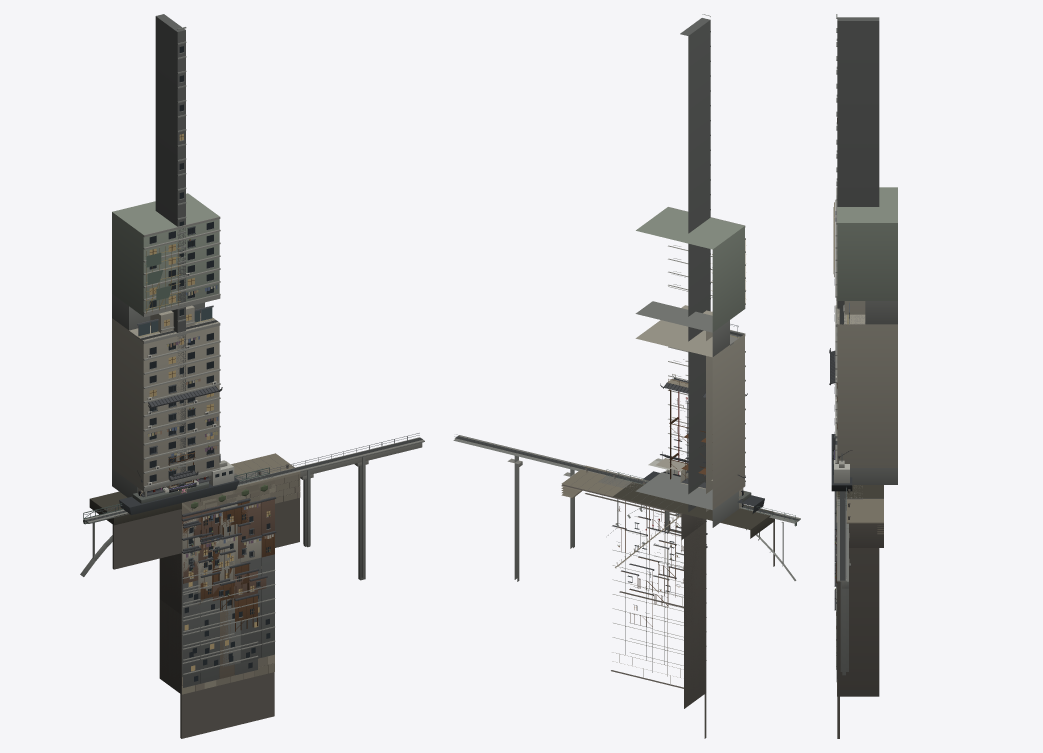
File: kit_fog_stair.glb
3 views of the same model, side by side, from view 1: azimuth 30°, elevation 25°; view 2: azimuth 150°, elevation 25°; view 3: azimuth 270°, elevation 25° (orthographic). The views are drawn at different scales.
Parts seen in each view (by area): view 1: fs_tower, fs_hill, fs_stair_upper, fs_edge_wall, fs_riverbed, fs_terrace, fs_quay, fs_stair_lower, fs_viaduct, fs_barge, fs_viaduct_twin, fs_bridge; view 2: fs_tower, fs_edge_wall, fs_hill, fs_stair_upper, fs_riverbed, fs_quay, fs_viaduct, fs_ad_tower, fs_stair_lower, fs_terrace, fs_viaduct_twin, fs_pavilion (+1 smaller); view 3: fs_tower, fs_edge_wall, fs_hill, fs_quay, fs_viaduct, fs_barge, fs_viaduct_twin, fs_riverbed.
Boxes of the visible parts, box(x1,y1,x2,y2) form: fs_tower: box(112, 193, 220, 497); fs_hill: box(159, 468, 276, 738); fs_stair_upper: box(160, 503, 259, 738); fs_edge_wall: box(155, 14, 186, 486); fs_riverbed: box(89, 491, 181, 569); fs_terrace: box(159, 474, 250, 619); fs_quay: box(181, 453, 300, 547); fs_stair_lower: box(159, 502, 267, 652); fs_viaduct: box(238, 433, 424, 577); fs_barge: box(119, 455, 239, 514); fs_viaduct_twin: box(239, 437, 422, 580); fs_bridge: box(80, 469, 272, 576); fs_tower: box(635, 207, 745, 527); fs_edge_wall: box(680, 14, 710, 511); fs_hill: box(599, 472, 707, 738); fs_stair_upper: box(629, 521, 706, 708); fs_riverbed: box(613, 479, 774, 566); fs_quay: box(561, 465, 706, 566); fs_viaduct: box(453, 434, 667, 579); fs_ad_tower: box(681, 305, 712, 511); fs_stair_lower: box(615, 511, 706, 656); fs_terrace: box(626, 478, 707, 625); fs_viaduct_twin: box(455, 437, 669, 581); fs_pavilion: box(660, 374, 747, 479); fs_tower: box(833, 187, 897, 484); fs_edge_wall: box(836, 14, 879, 308); fs_hill: box(834, 491, 879, 738); fs_quay: box(836, 489, 883, 589); fs_viaduct: box(837, 491, 849, 671); fs_barge: box(831, 434, 852, 491); fs_viaduct_twin: box(842, 491, 846, 675); fs_riverbed: box(837, 485, 883, 498).
Bounding box in the file's own units: 79.86 × 161 × 42.67.
